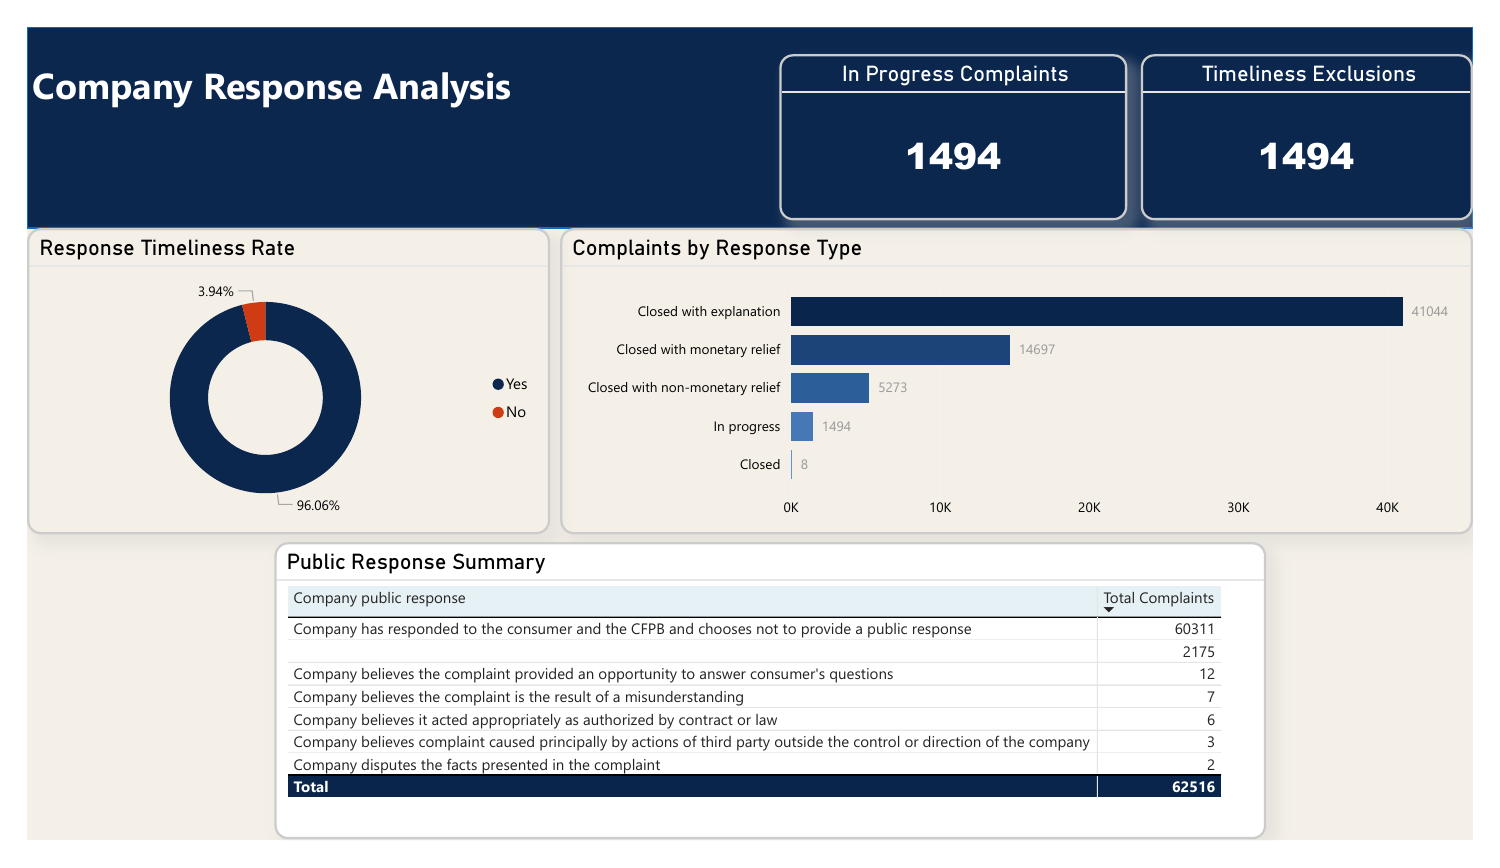

This screenshot's page, from the dashboard's own definition file:
{"tool":"powerbi","page":{"name":"Company Response Analysis","canvas":[1280,720],"ordinal":2},"visuals":[{"type":"shape","box":[0,0,1280,177.7],"z":0},{"type":"clusteredBarChart","title":"Complaints by Response Type","fields":{"Category":["Complaints.Company response to consumer"],"Y":["Complaints.Total Complaints"]},"box":[471.7,177.7,808.3,271.7],"z":1000},{"type":"donutChart","title":"Response Timeliness Rate","fields":{"Category":["Complaints.Timely response?"],"Y":["Complaints.Total Complaints"]},"box":[0,177.7,463.1,271.7],"z":2000},{"type":"cardVisual","title":"In Progress Complaints","fields":{"Data":["Complaints.In Progress"]},"box":[666.5,23.9,307.6,147],"z":3000},{"type":"cardVisual","title":"Timeliness Exclusions","fields":{"Data":["Complaints.Excluded Timeliness"]},"box":[986.1,23.9,293.9,147],"z":4000},{"type":"tableEx","title":"Public Response Summary","fields":{"Values":["Complaints.Company public response","Complaints.Total Complaints"]},"box":[218.7,456.3,878.4,263.2],"z":5000},{"type":"textbox","box":[0,23.9,490.5,64.9],"z":6000}]}

Visuals, with their boxes in screenshot pixels (x1, y1, x2, y2), scaled from the page's 1280x720 canvas onto the 1500x868 screenshot:
shape: region(0, 0, 1499, 214)
"Complaints by Response Type" clusteredBarChart: region(553, 214, 1499, 542)
"Response Timeliness Rate" donutChart: region(0, 214, 543, 542)
"In Progress Complaints" cardVisual: region(781, 29, 1142, 206)
"Timeliness Exclusions" cardVisual: region(1156, 29, 1499, 206)
"Public Response Summary" tableEx: region(256, 550, 1286, 867)
textbox: region(0, 29, 575, 107)
